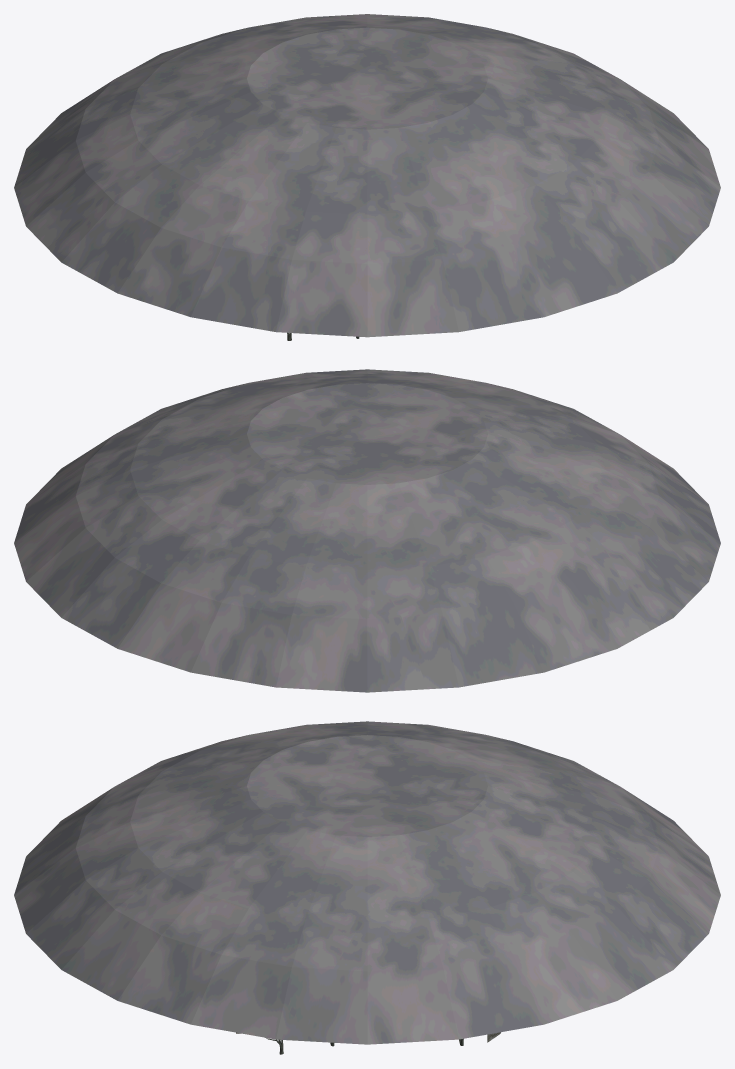
The model's file is recovered_map_mp12.glb.
3 views of the same model, one above another, from view 1: azimuth 30°, elevation 25°; view 2: azimuth 150°, elevation 25°; view 3: azimuth 270°, elevation 25° (orthographic).
Visible parts, largest first — view 1: S_sky01; view 2: S_sky01; view 3: S_sky01.
Boxes of the visible parts, left/top/right/bottom form: S_sky01: left=14, top=14, right=720, bottom=337; S_sky01: left=14, top=369, right=720, bottom=692; S_sky01: left=14, top=721, right=720, bottom=1044.
Size of what is drawn, in the model's own units: 491 by 158 by 491.
25 materials, 25 textured.
